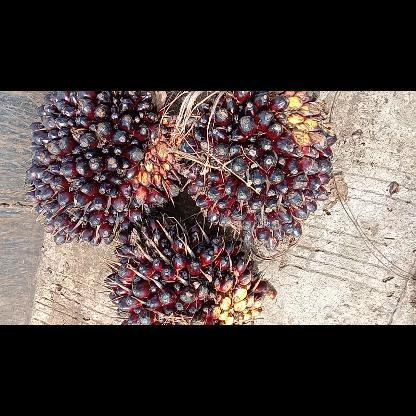TBS mentah: (21, 90, 186, 248), (184, 91, 340, 249), (104, 214, 282, 324)
